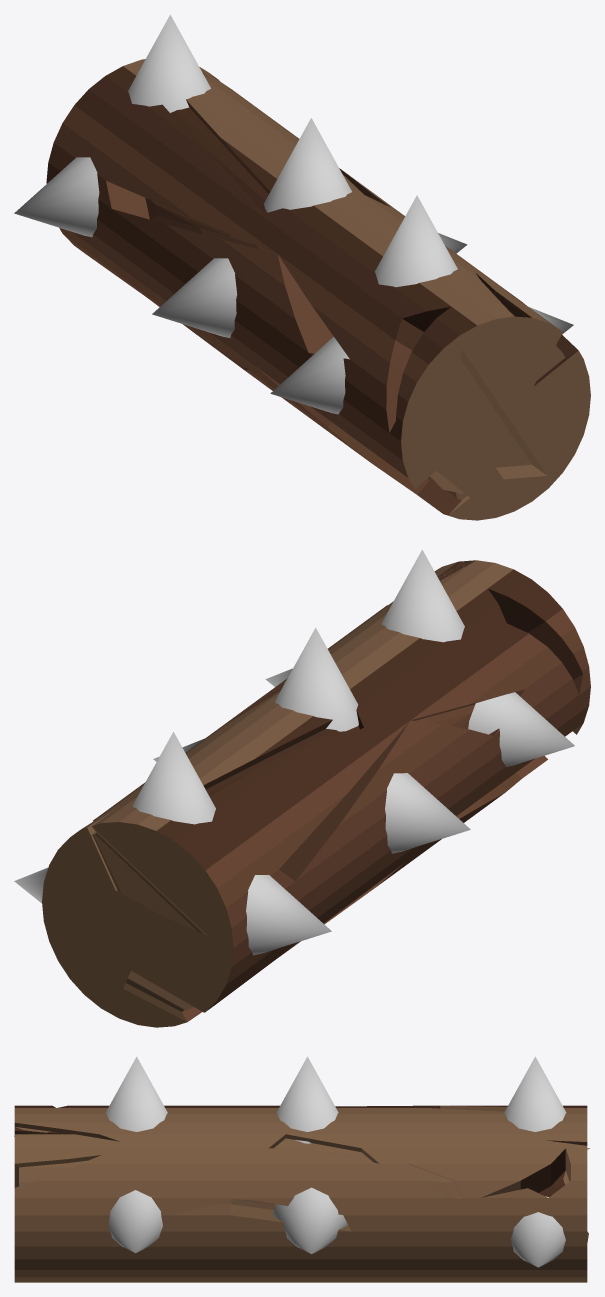
File: TroncoJuegooo.fbx
The picture shows the model from 3 angles, top to bottom: view 1: azimuth 30°, elevation 25°; view 2: azimuth 150°, elevation 25°; view 3: azimuth 270°, elevation 25°; orthographic projection. The views are drawn at different scales.
Visible parts, largest first — view 1: Cone.006; view 2: Cone.006; view 3: Cone.006.
Boxes of the visible parts, x1=… form: Cone.006: x1=14, y1=14, x2=590, y2=520; Cone.006: x1=14, y1=549, x2=590, y2=1027; Cone.006: x1=14, y1=1056, x2=589, y2=1282.
Size of the model in its own units: 85.15 by 69.19 by 167.
2 materials, 2 textured.
